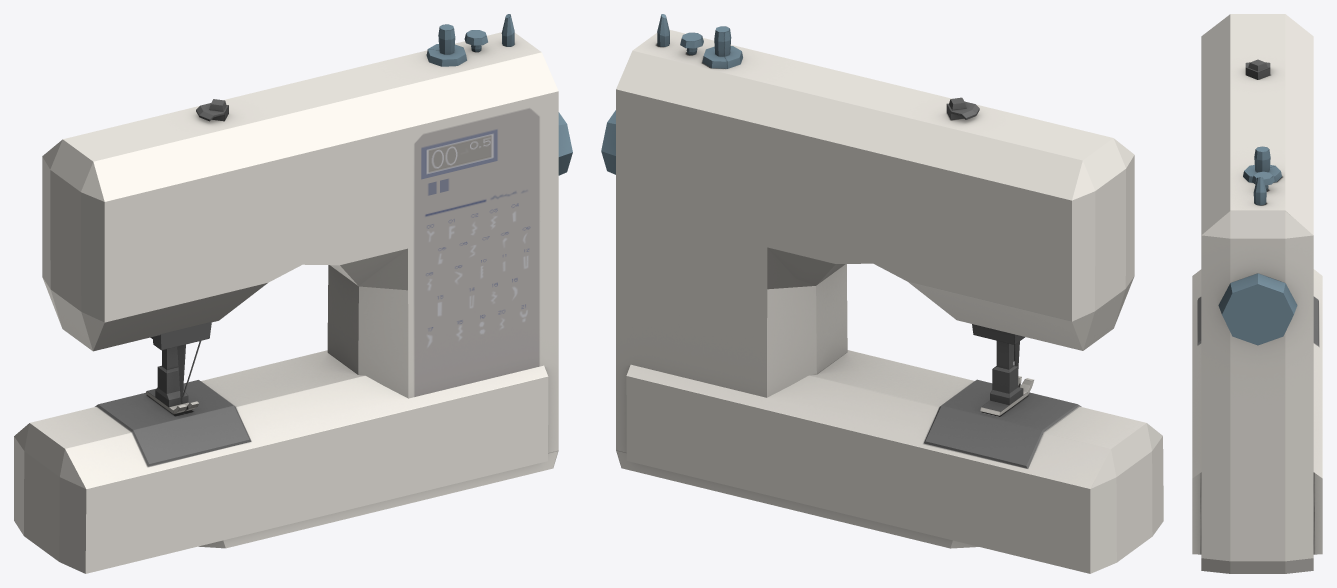
Rendered from 537a5491-524f-4388-ac30-f5e76e36cab2.glb.
3 renders of one model, left to right at view 1: azimuth 30°, elevation 25°; view 2: azimuth 150°, elevation 25°; view 3: azimuth 270°, elevation 25°, orthographic. The views are drawn at different scales.
Visible parts, largest first — view 1: SewingMachine_mesh; view 2: SewingMachine_mesh; view 3: SewingMachine_mesh.
Part boxes in pixels (box(x1,y1,x2,y2)): SewingMachine_mesh: box(14, 14, 572, 573); SewingMachine_mesh: box(601, 14, 1163, 573); SewingMachine_mesh: box(1192, 14, 1322, 573).
Size of the model in its own units: 17.97 by 14.57 by 4.4.
Materials: 1 (1 with a texture image).
